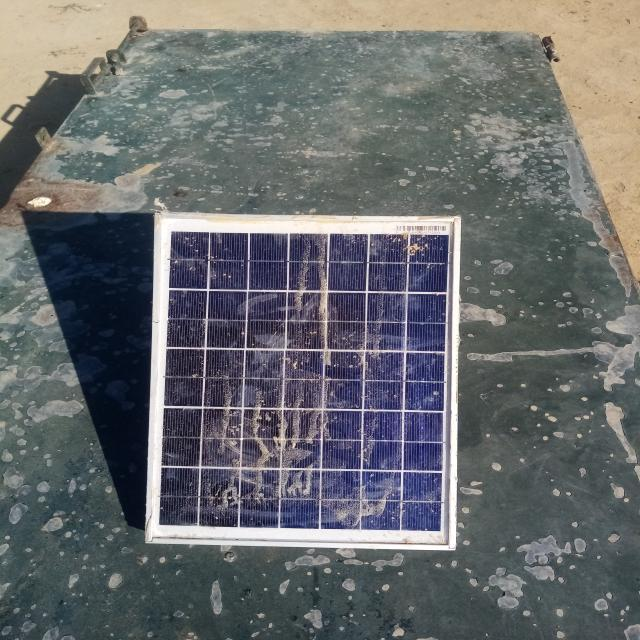faulty: (146, 217, 462, 551)
